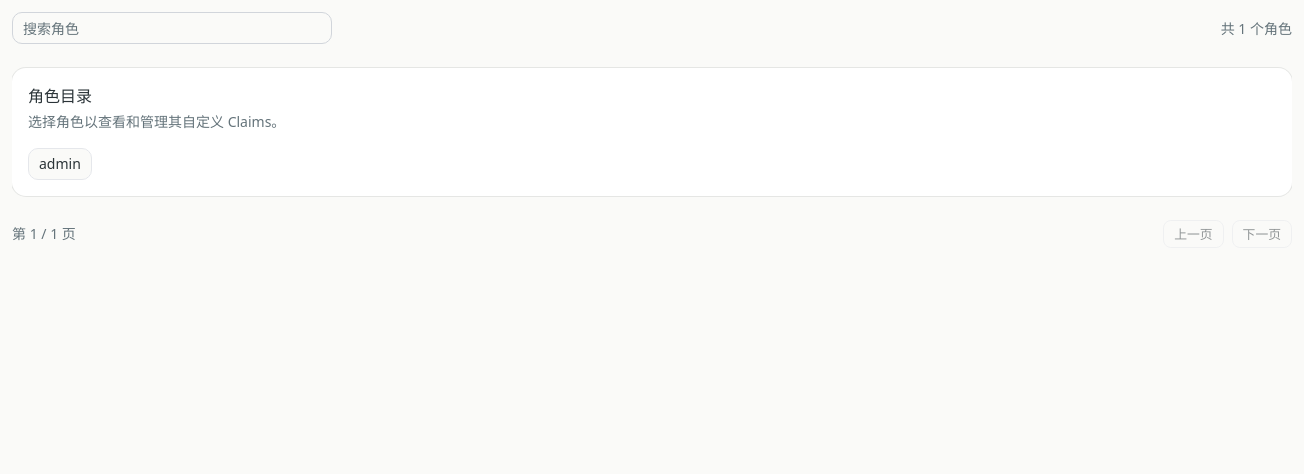
RolesPage › shows Claims loading and disables Claim writes while a role request is pending
Click the button "admin".
click(60, 164)  # box [28,148,92,180]
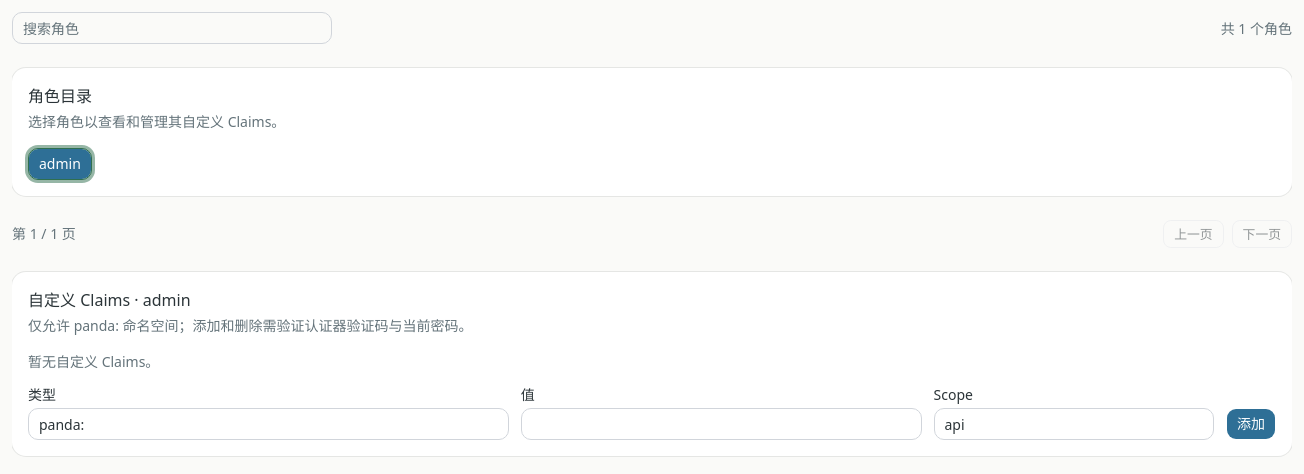
Now the text "正在加载 Claims…" is shown, box [28,352,159,371]
